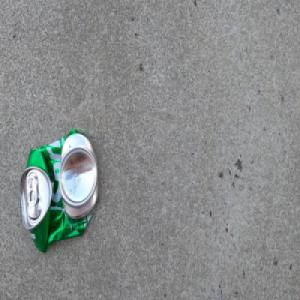SodaCan: (19, 127, 99, 254)
